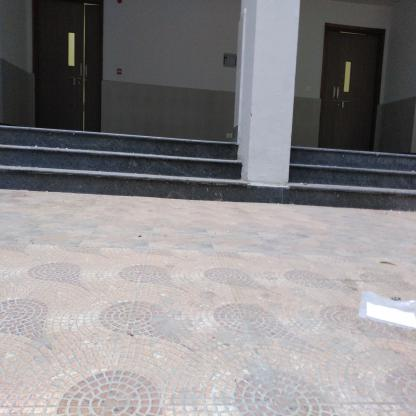stairs: (1, 135, 239, 200), (297, 148, 416, 213)
